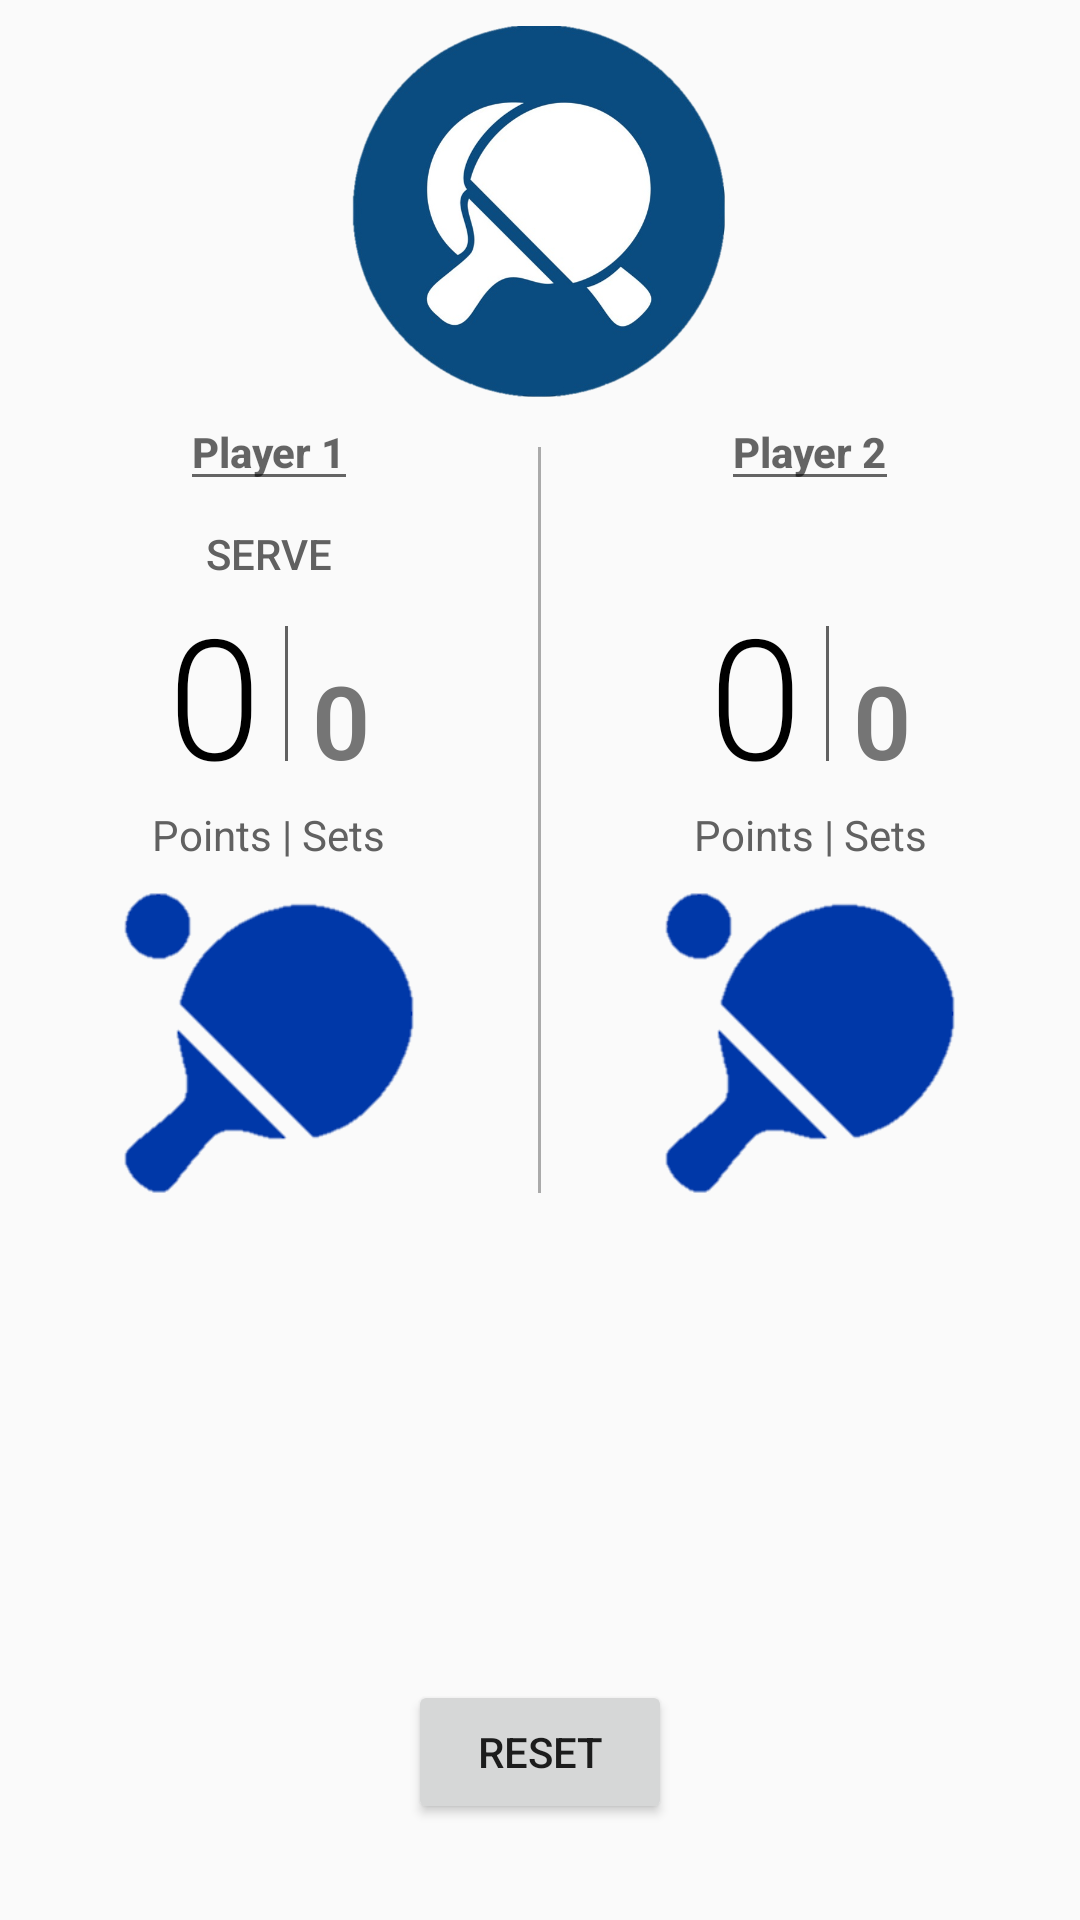

Locate icon controls on the screen. Image size 1080*1920, boxes as box=[x1, y1, x2, y2].
paddle: box=[124, 893, 414, 1193], box=[665, 893, 955, 1193]
